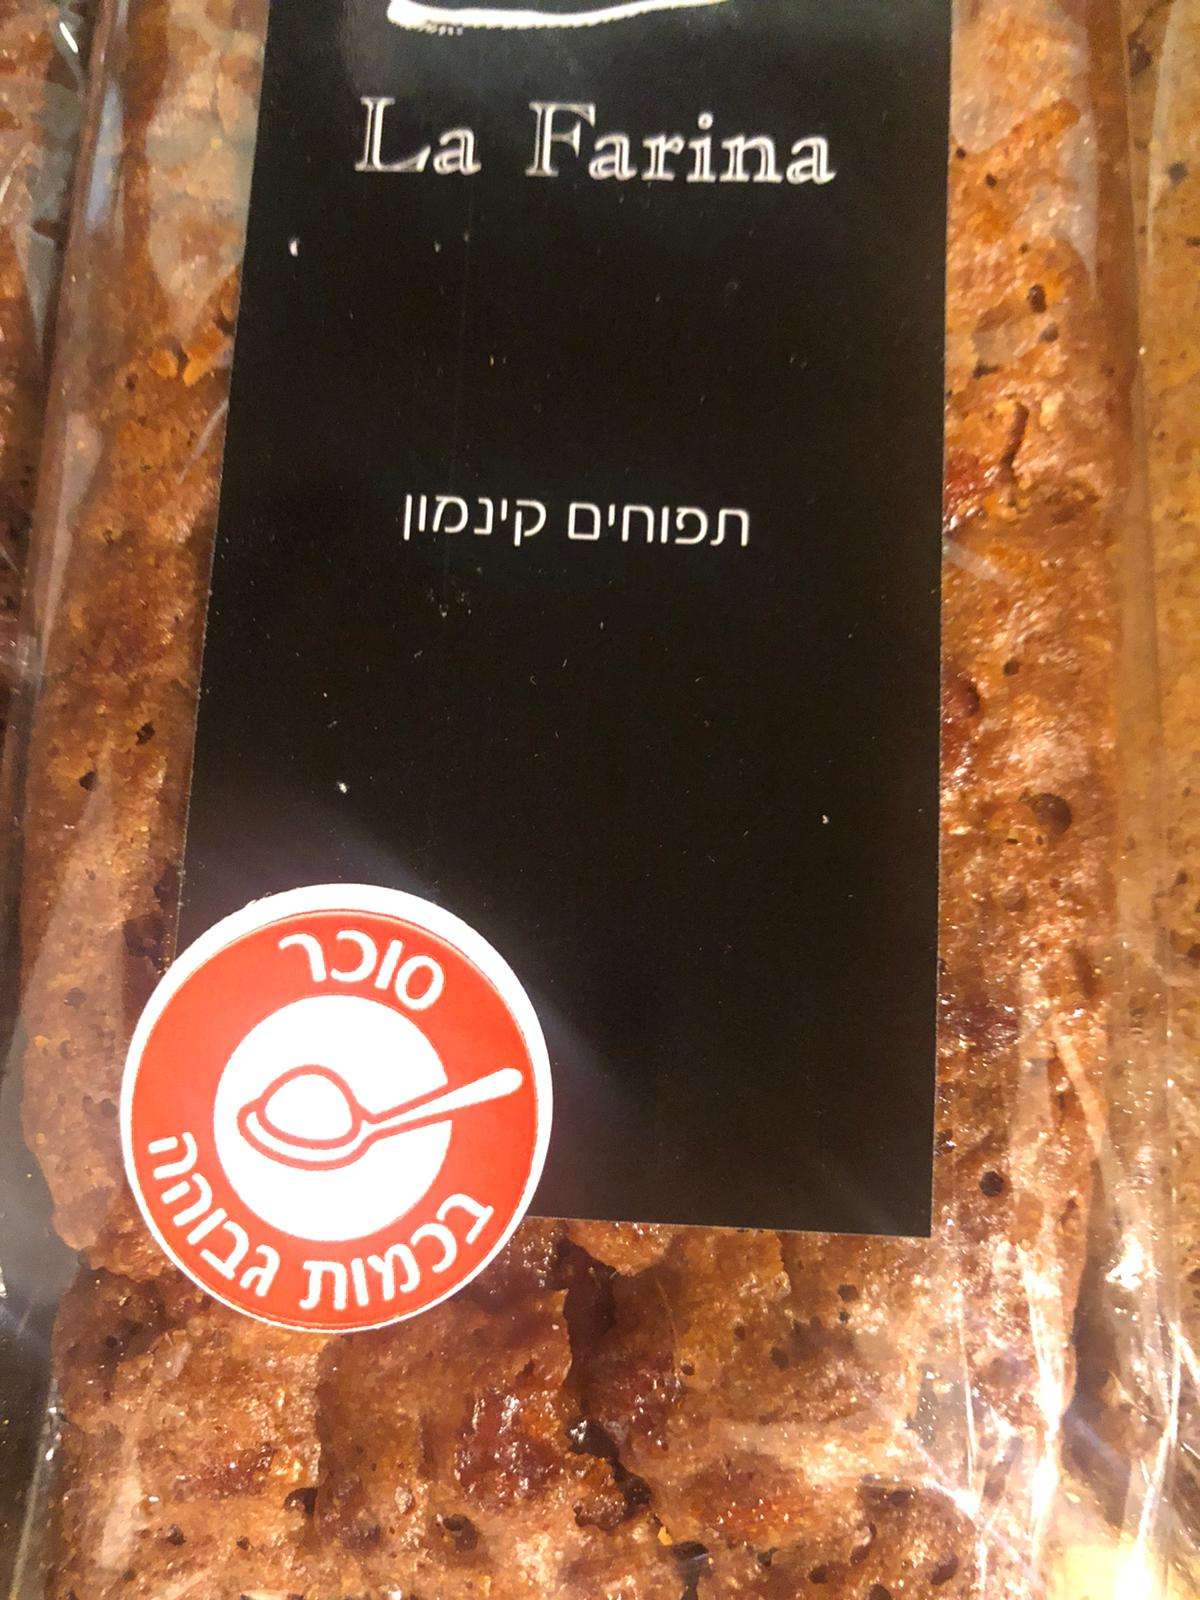sugar: (122, 881, 558, 1338)
